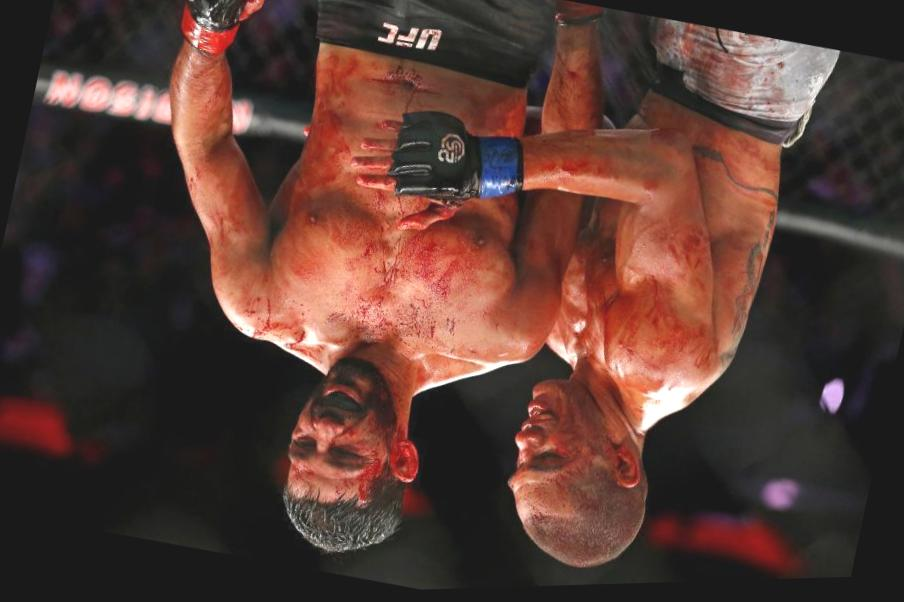Fire: (168, 46, 440, 376), (268, 45, 525, 343), (286, 360, 402, 506), (508, 376, 605, 523), (604, 286, 697, 369), (522, 146, 619, 181)
